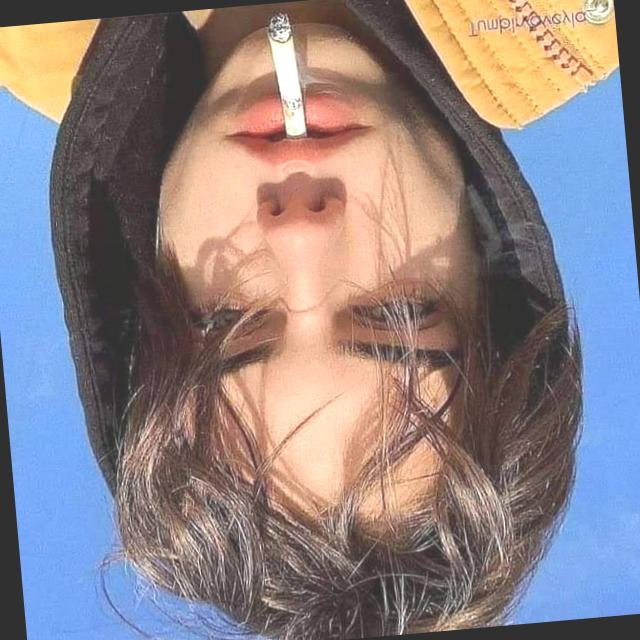smoke: (236, 0, 348, 165)
